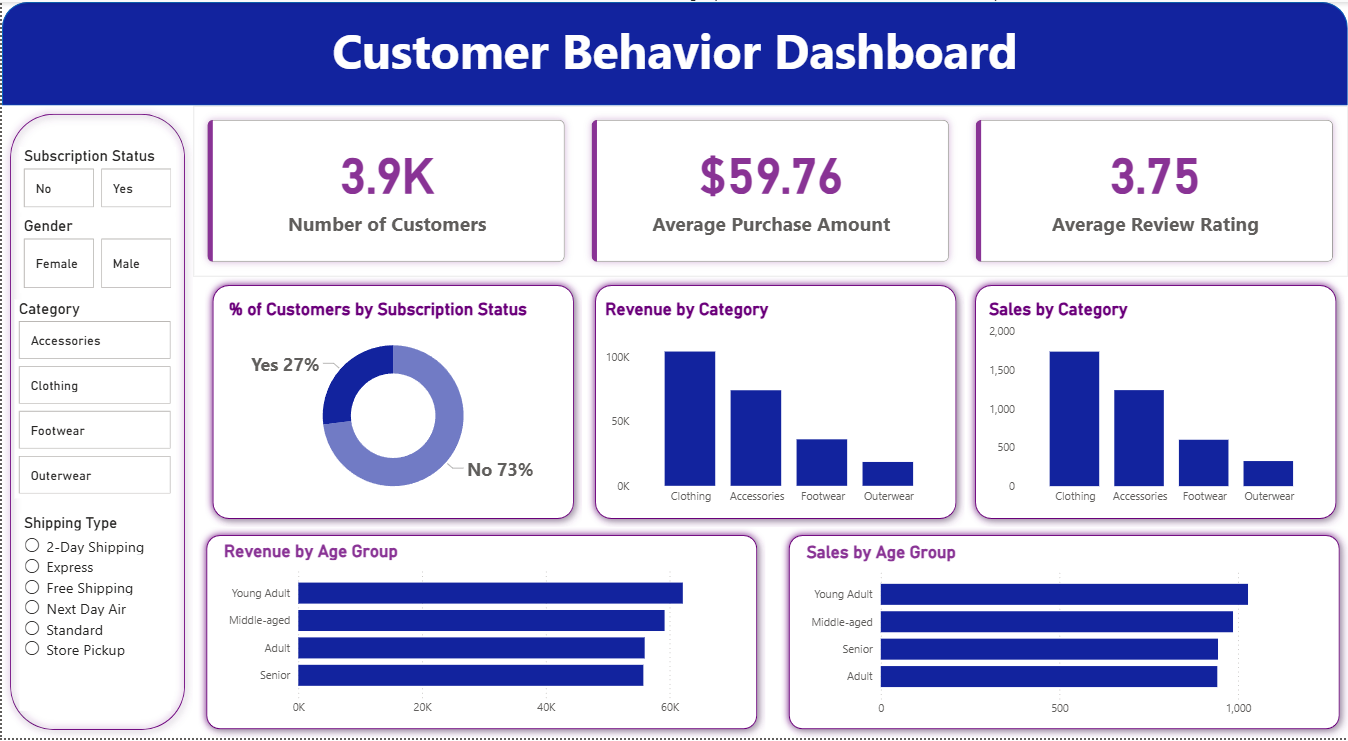

The page's visual inventory and layout, read from the dashboard file:
{"tool":"powerbi","page":{"name":"Dashboard 1","canvas":[1500,820],"ordinal":0},"visuals":[{"type":"cardVisual","fields":{"Data":["public customer.Number of Customers","public customer.Average Purchase Amount","public customer.Average Review Rating"]},"box":[213.1,115.6,1286.8,190.8],"z":2000},{"type":"shape","box":[218.3,585.6,631.7,234.2],"z":2500,"group":"g1"},{"type":"shape","box":[0,0,1499.4,115.3],"z":3000},{"type":"textbox","box":[0,12.4,1499.4,102.9],"z":4000},{"type":"shape","box":[225.4,307,420.5,278.6],"z":5000},{"type":"donutChart","title":"% of Customers by Subscription Status","fields":{"Category":["public customer.subscription_status"],"Y":["CountNonNull(public customer.customer_id)"]},"box":[248.4,331.8,376.2,237.8],"z":6000},{"type":"shape","box":[1075.1,306.4,420.6,278.5],"z":7000},{"type":"shape","box":[652.1,307,420.5,278.6],"z":8000},{"type":"clusteredColumnChart","title":"Revenue by Category","fields":{"Y":["Sum(public customer.purchase_amount)"],"Category":["public customer.category"]},"box":[667.2,331.8,385.1,237.8],"z":9000},{"type":"clusteredColumnChart","title":"Sales by Category","fields":{"Y":["CountNonNull(public customer.customer_id)"],"Category":["public customer.category"]},"box":[1094.6,331.5,380.2,238.1],"z":10000},{"type":"shape","box":[0,115.3,212.9,704.5],"z":11000},{"type":"advancedSlicerVisual","fields":{"Values":["public customer.subscription_status"]},"box":[19.5,161.5,174.1,72.4],"z":12000},{"type":"advancedSlicerVisual","fields":{"Values":["public customer.gender"]},"box":[19.5,239.5,174.1,85],"z":13000},{"type":"advancedSlicerVisual","fields":{"Values":["public customer.category"]},"box":[13.9,331.5,179.7,221.4],"z":14000},{"type":"listSlicer","fields":{"Values":["public customer.shipping_type"]},"box":[19.5,569.6,168.6,220],"z":15000},{"type":"shape","box":[867.7,585.6,631.7,234.2],"z":16000},{"type":"clusteredBarChart","title":"Sales by Age Group","fields":{"Y":["CountNonNull(public customer.customer_id)"],"Category":["public customer.age_group"]},"box":[890.8,601.5,585.6,204.1],"z":17000},{"type":"clusteredBarChart","title":"Revenue by Age Group","fields":{"Y":["Sum(public customer.purchase_amount)"],"Category":["public customer.age_group"]},"box":[241.4,601.6,585.6,204.1],"z":17500,"group":"g1"},{"type":"group","id":"g1","title":"Group 1","box":[218.3,585.6,631.7,234.2],"z":17501}]}

Visuals, with their boxes in screenshot pixels (x1, y1, x2, y2), scaled from the page's 1500x820 canvas onto the 1348x741 screenshot:
cardVisual - public customer.Number of Customers x public customer.Average Purchase Amount: [192,104,1347,277]
shape: [196,529,764,740]
shape: [0,0,1347,104]
textbox: [0,11,1347,104]
shape: [203,277,580,529]
"% of Customers by Subscription Status" donutChart: [223,300,561,515]
shape: [966,277,1344,529]
shape: [586,277,964,529]
"Revenue by Category" clusteredColumnChart: [600,300,946,515]
"Sales by Category" clusteredColumnChart: [984,300,1325,515]
shape: [0,104,191,740]
advancedSlicerVisual - public customer.subscription_status: [18,146,174,211]
advancedSlicerVisual - public customer.gender: [18,216,174,293]
advancedSlicerVisual - public customer.category: [12,300,174,500]
listSlicer - public customer.shipping_type: [18,515,169,714]
shape: [780,529,1347,740]
"Sales by Age Group" clusteredBarChart: [801,544,1327,728]
"Revenue by Age Group" clusteredBarChart: [217,544,743,728]
"Group 1" group: [196,529,764,740]
